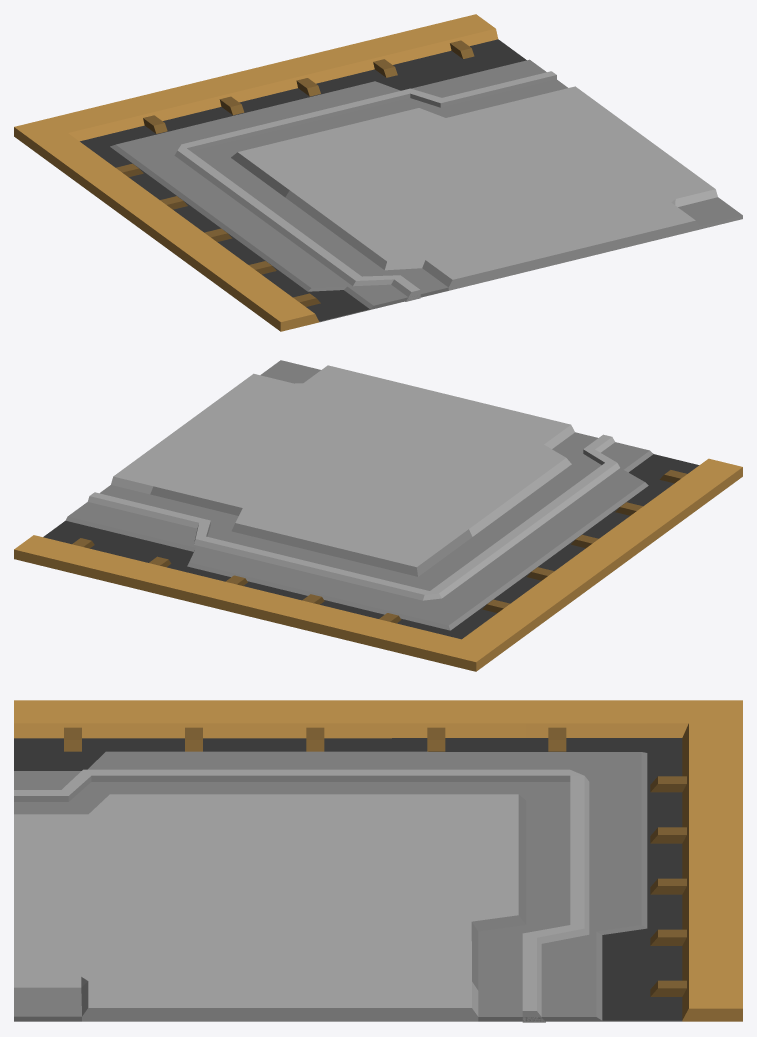
File: FloorTile_Corner_GD.glb
3 renders of one model, top to bottom at view 1: azimuth 30°, elevation 25°; view 2: azimuth 150°, elevation 25°; view 3: azimuth 270°, elevation 25°, orthographic. The views are drawn at different scales.
Visible parts, largest first — view 1: FloorTile_Corner; view 2: FloorTile_Corner; view 3: FloorTile_Corner.
Boxes of the visible parts, bbox=[...] form: FloorTile_Corner: bbox=[14, 14, 742, 331]; FloorTile_Corner: bbox=[14, 360, 742, 671]; FloorTile_Corner: bbox=[14, 700, 742, 1022].
Bounding box in the file's own units: 15 × 0.4614 × 15.
